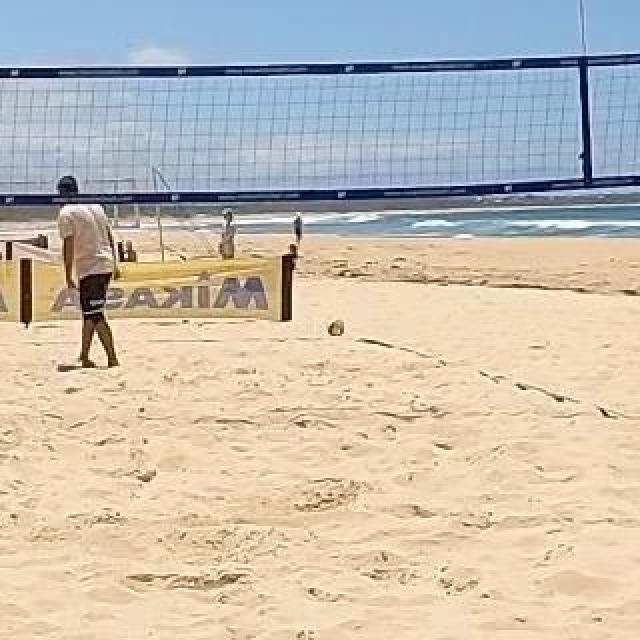volleyball: (326, 319, 344, 337)
